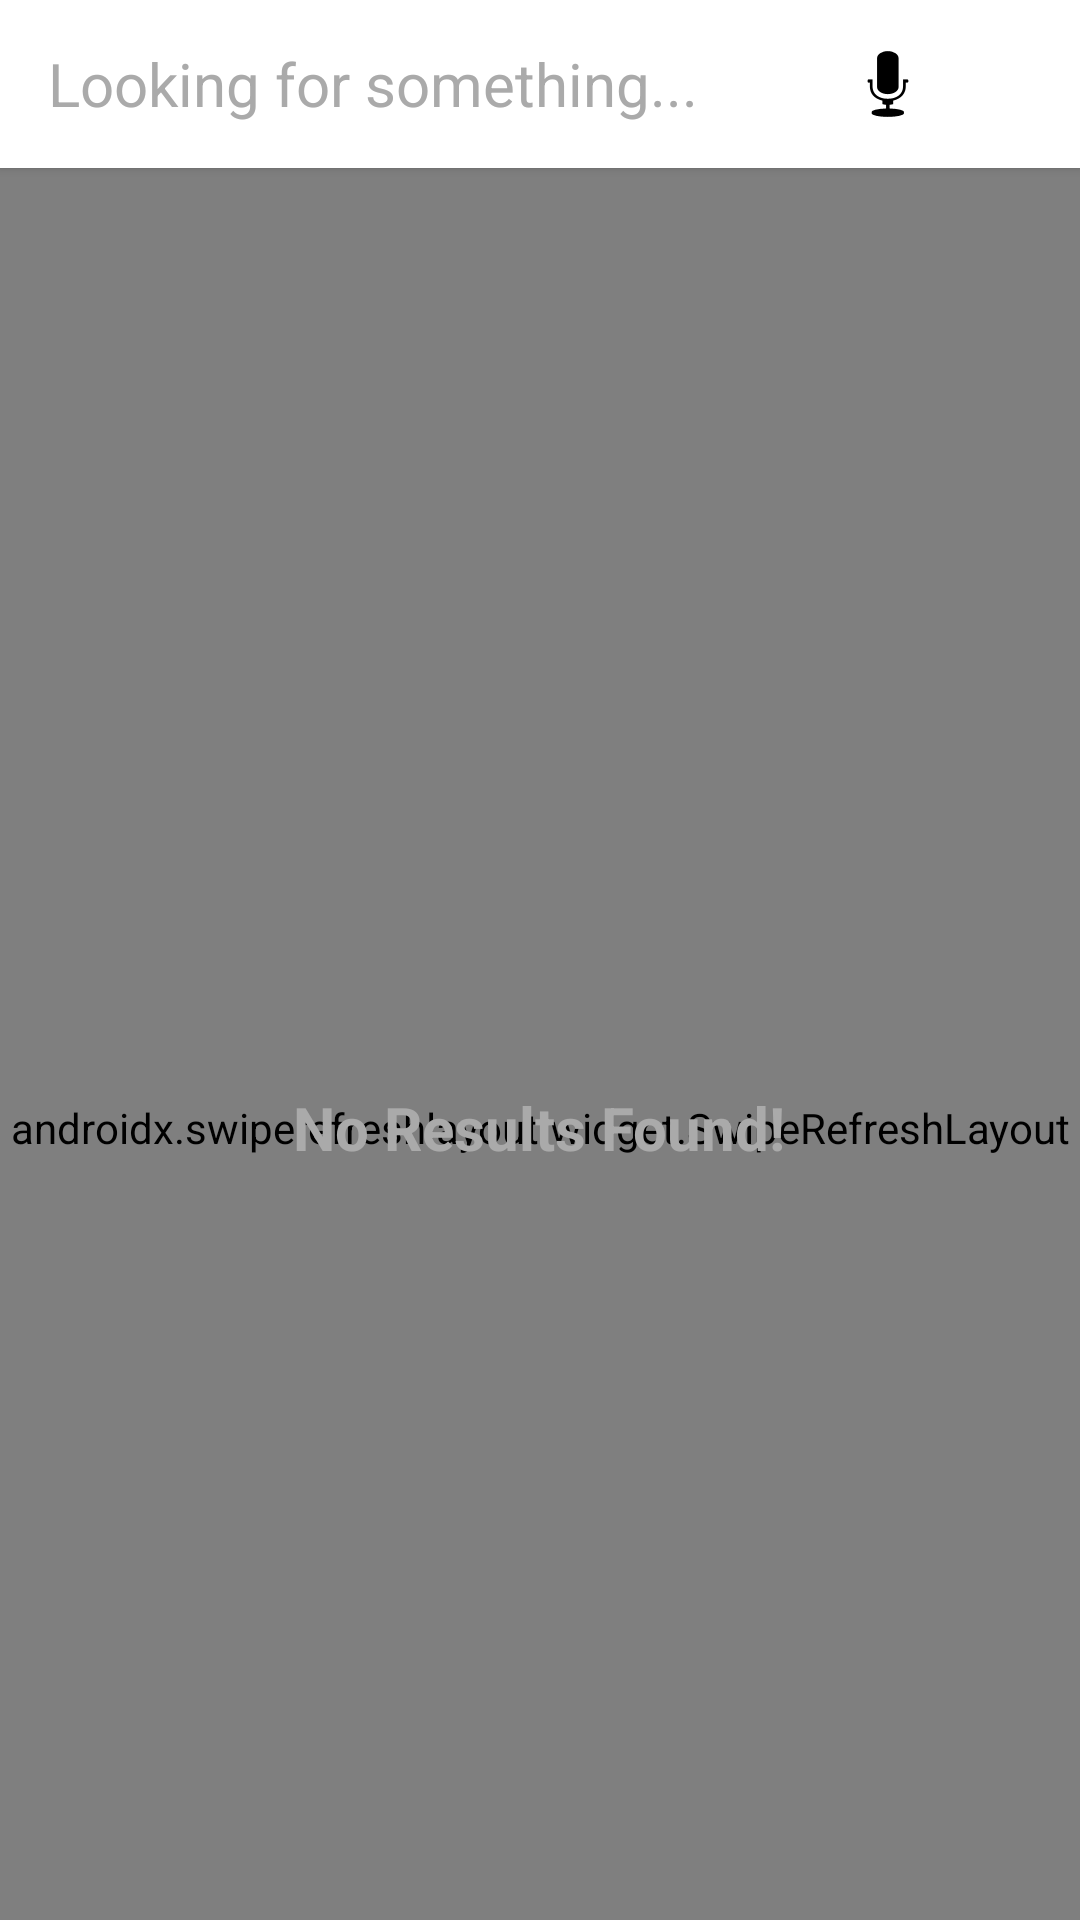

Named icons in this screenshot (1080 × 1920) and their bounding boxes, (left=x1, top=y1, right=x2, bottom=y2):
speak now: (left=867, top=51, right=909, bottom=117)
